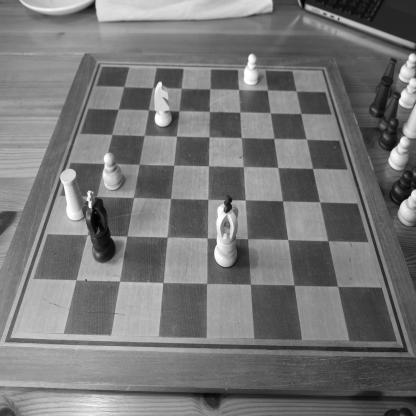black-bishop: (375, 91, 403, 136), (376, 56, 398, 96)
black-king: (81, 189, 118, 262)
black-pawn: (389, 168, 415, 208), (378, 117, 400, 152)
black-rook: (369, 73, 395, 118)
white-king: (210, 193, 243, 267)
white-knight: (152, 81, 174, 130)
white-pawn: (102, 150, 125, 192), (387, 135, 412, 170), (397, 188, 416, 228), (242, 52, 262, 87), (399, 77, 416, 110), (398, 54, 416, 83)
white-rook: (59, 166, 89, 222)
